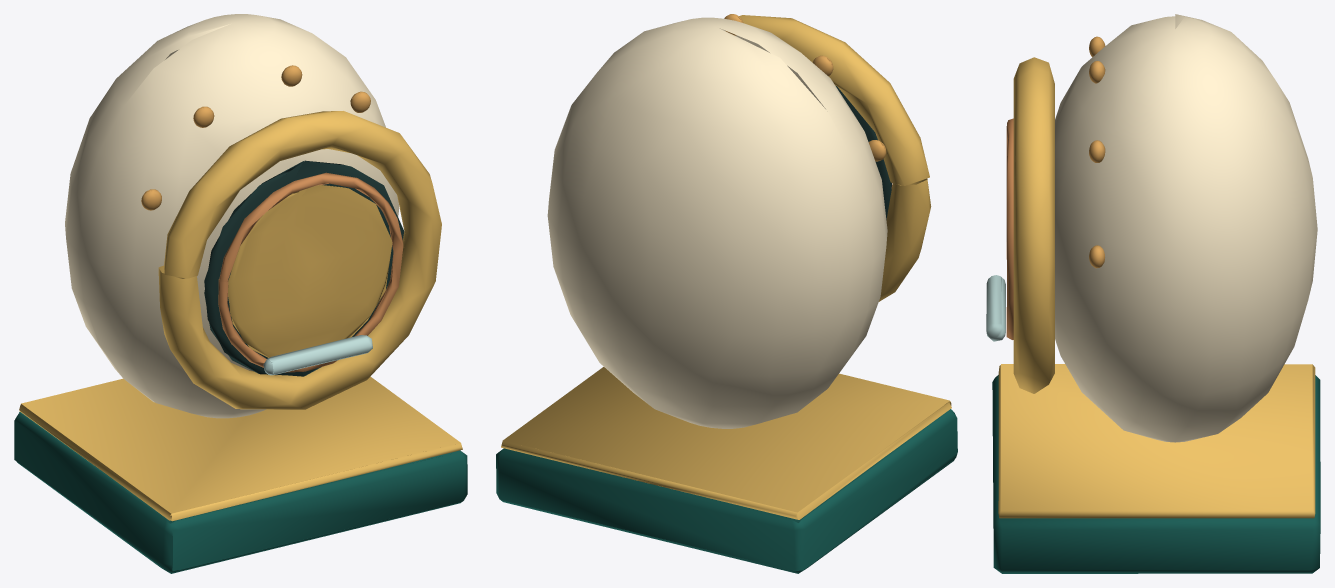
The picture shows the model from 3 angles, left to right: view 1: azimuth 30°, elevation 25°; view 2: azimuth 150°, elevation 25°; view 3: azimuth 270°, elevation 25°; orthographic projection. The views are drawn at different scales.
Visible parts, largest first — view 1: Brass welt, Lunar oven shell, Jade footing, Warm glow, Oven porthole, Glowing porthole, Oven handle, Pastry fold; view 2: Lunar oven shell, Brass welt, Jade footing, Oven porthole, Pastry fold; view 3: Lunar oven shell, Brass welt, Jade footing, Glowing porthole, Oven handle, Pastry fold.
Part boxes in pixels (x1,y1,x2,y2): Brass welt: [19, 111, 462, 521]; Lunar oven shell: [65, 14, 399, 418]; Jade footing: [14, 412, 467, 573]; Warm glow: [228, 185, 392, 357]; Oven porthole: [204, 160, 404, 376]; Glowing porthole: [218, 172, 403, 372]; Oven handle: [263, 335, 372, 375]; Pastry fold: [141, 65, 370, 210]; Lunar oven shell: [547, 17, 887, 428]; Brass welt: [501, 15, 951, 519]; Jade footing: [496, 409, 957, 573]; Oven porthole: [835, 85, 891, 219]; Pastry fold: [724, 14, 886, 161]; Lunar oven shell: [1055, 14, 1317, 442]; Brass welt: [998, 57, 1315, 518]; Jade footing: [992, 375, 1320, 573]; Glowing porthole: [1006, 118, 1013, 339]; Oven handle: [986, 275, 1005, 341]; Pastry fold: [1089, 36, 1105, 268].
Bounding box in the file's own units: 0.8 × 1.13 × 0.7276.
